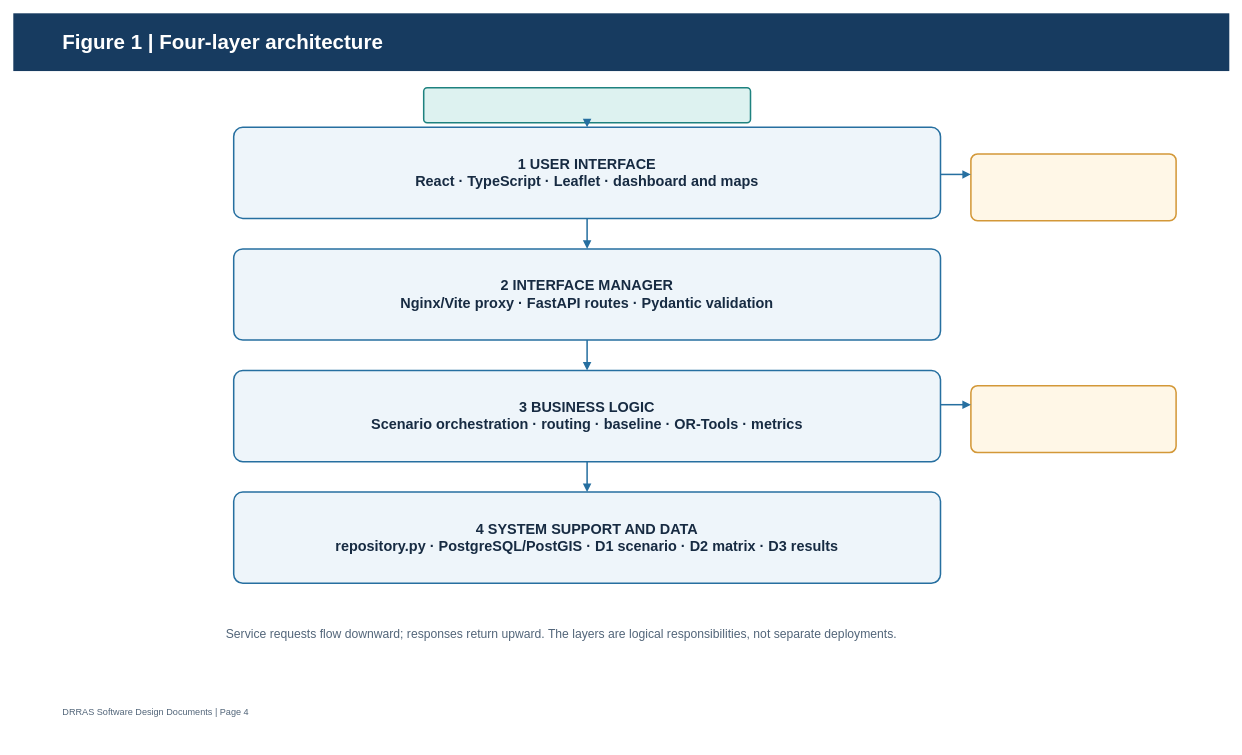
Image size: 1242x755. Some labels were removed from this diagram. Each missing label, with the centre of its shape:
Coordinator: (x=587, y=105)
OpenStreetMap tiles external map background: (x=1073, y=187)
OSRM Table service external road estimates: (x=1073, y=419)
